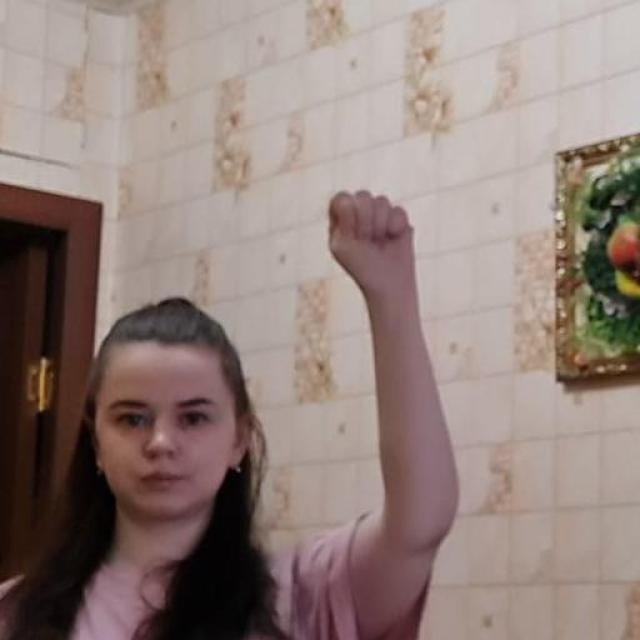hand: (327, 187, 418, 295)
